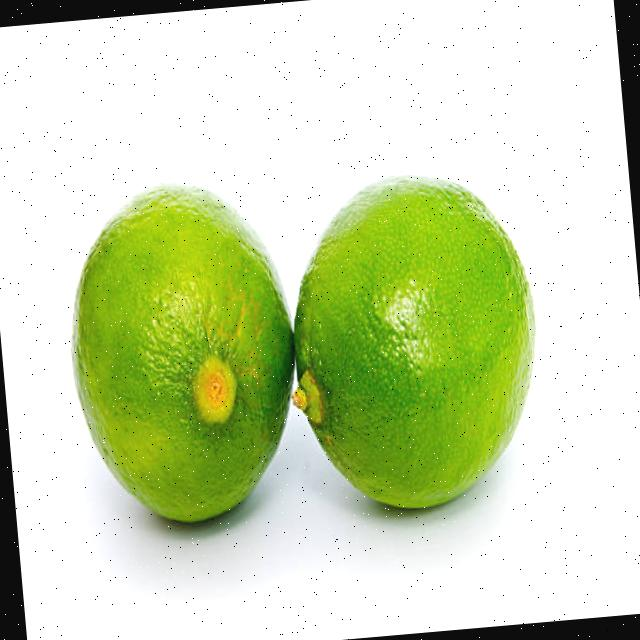Unripe: (274, 161, 553, 520), (55, 169, 308, 533)
